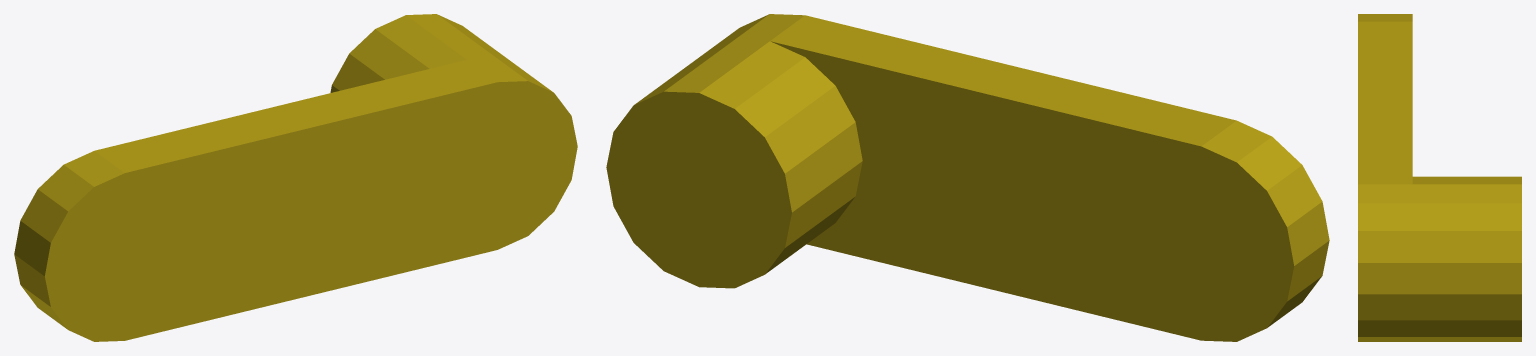
File: HandleLeft.fbx
3 renders of one model, left to right at view 1: azimuth 30°, elevation 25°; view 2: azimuth 150°, elevation 25°; view 3: azimuth 270°, elevation 25°, orthographic. The views are drawn at different scales.
Parts seen in each view (by area): view 1: LeftHandle; view 2: LeftHandle; view 3: LeftHandle.
Boxes of the visible parts, bbox=[...] form: LeftHandle: bbox=[14, 14, 577, 341]; LeftHandle: bbox=[606, 14, 1329, 341]; LeftHandle: bbox=[1358, 14, 1521, 341].
Bounding box in the file's own units: 17.2 × 5.17 × 5.12.
